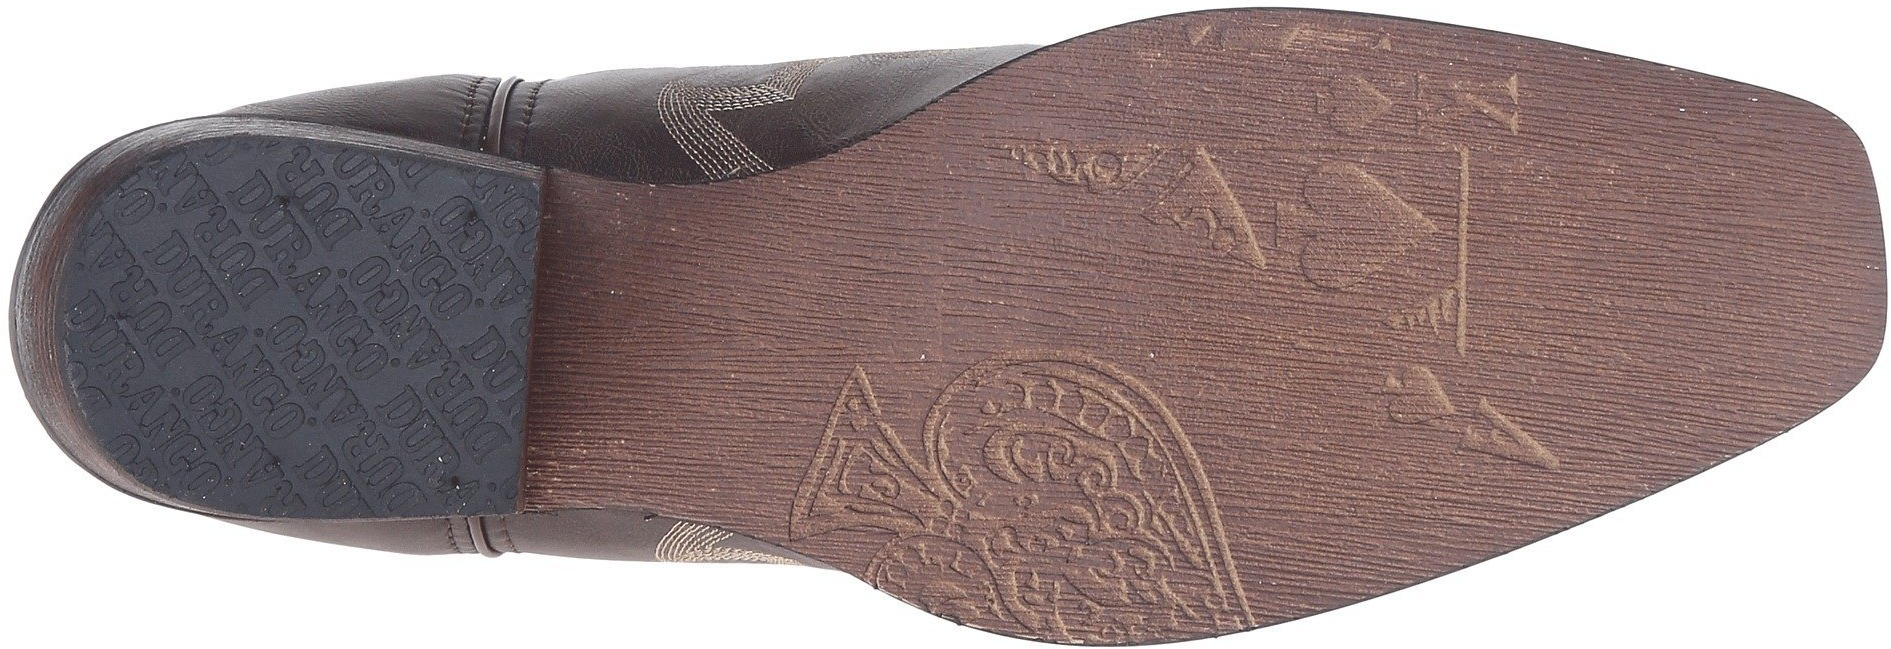exclude: (526, 130, 892, 575)
line: (1530, 75, 1877, 404), (94, 194, 365, 442)
other: (1260, 57, 1522, 320), (1325, 320, 1593, 515), (891, 173, 1088, 352)
text: (201, 162, 537, 508)
